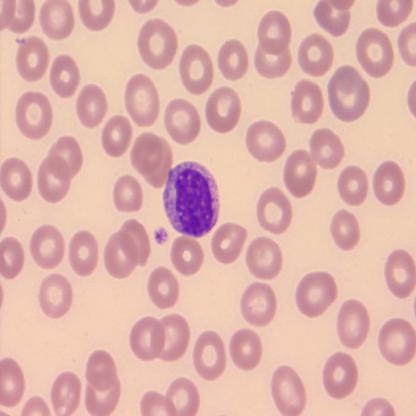Myelocyte: (164, 159, 219, 234)
